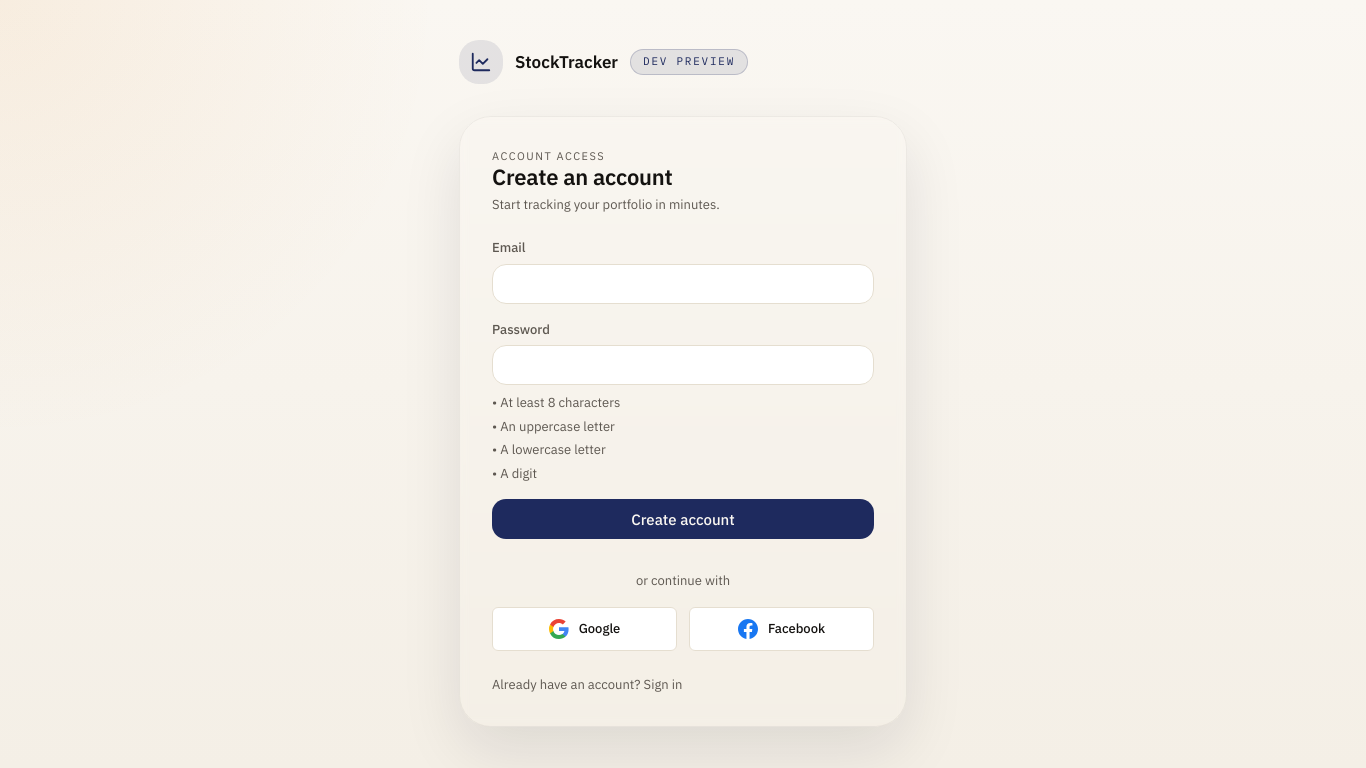
SignupRoute › submits sign-up and shows the immediate-access state
Type "newuser@example.com" into the field with test id "signup-email".
click(683, 284); type("newuser@example.com")  # box x1=492 y1=264 x2=874 y2=304
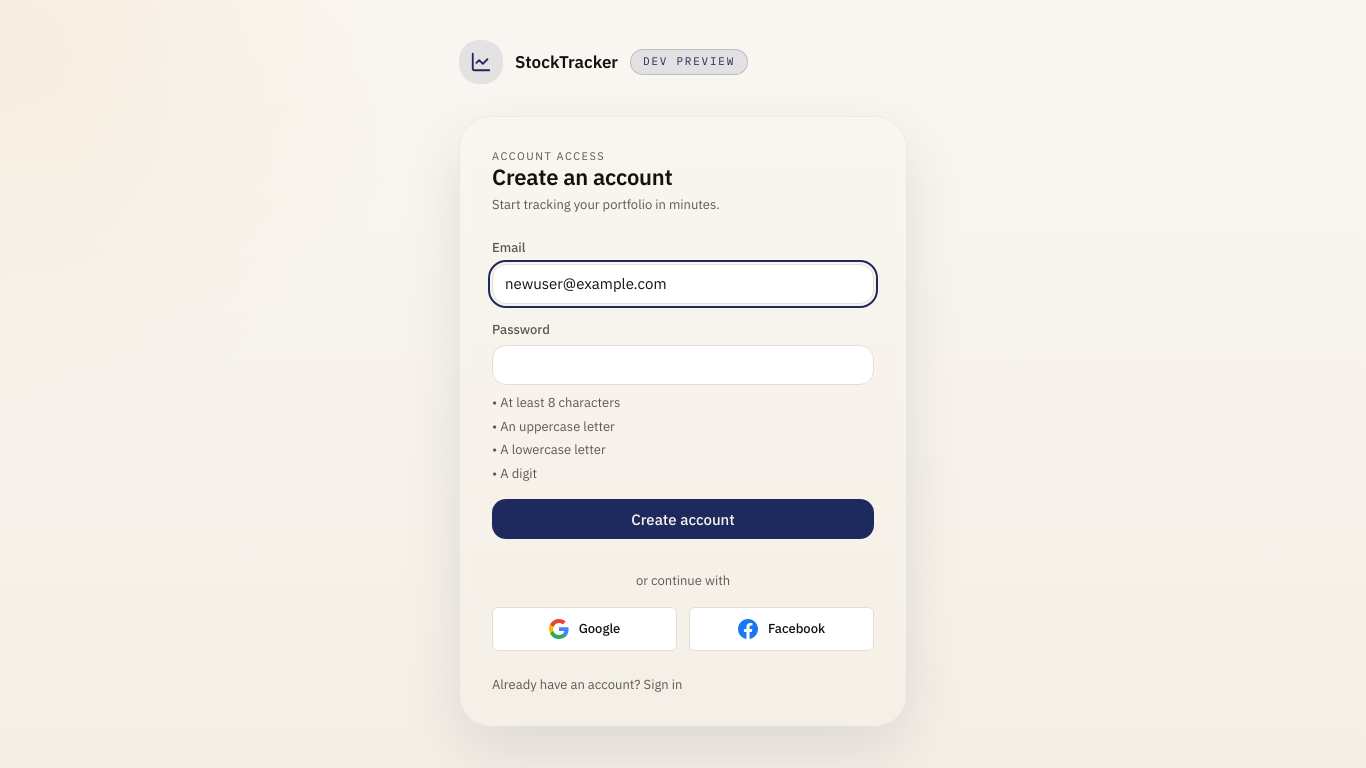
Type "Passw0rd!" into the password field with test id "signup-password".
click(683, 365); type("Passw0rd!")  # box x1=492 y1=345 x2=874 y2=385
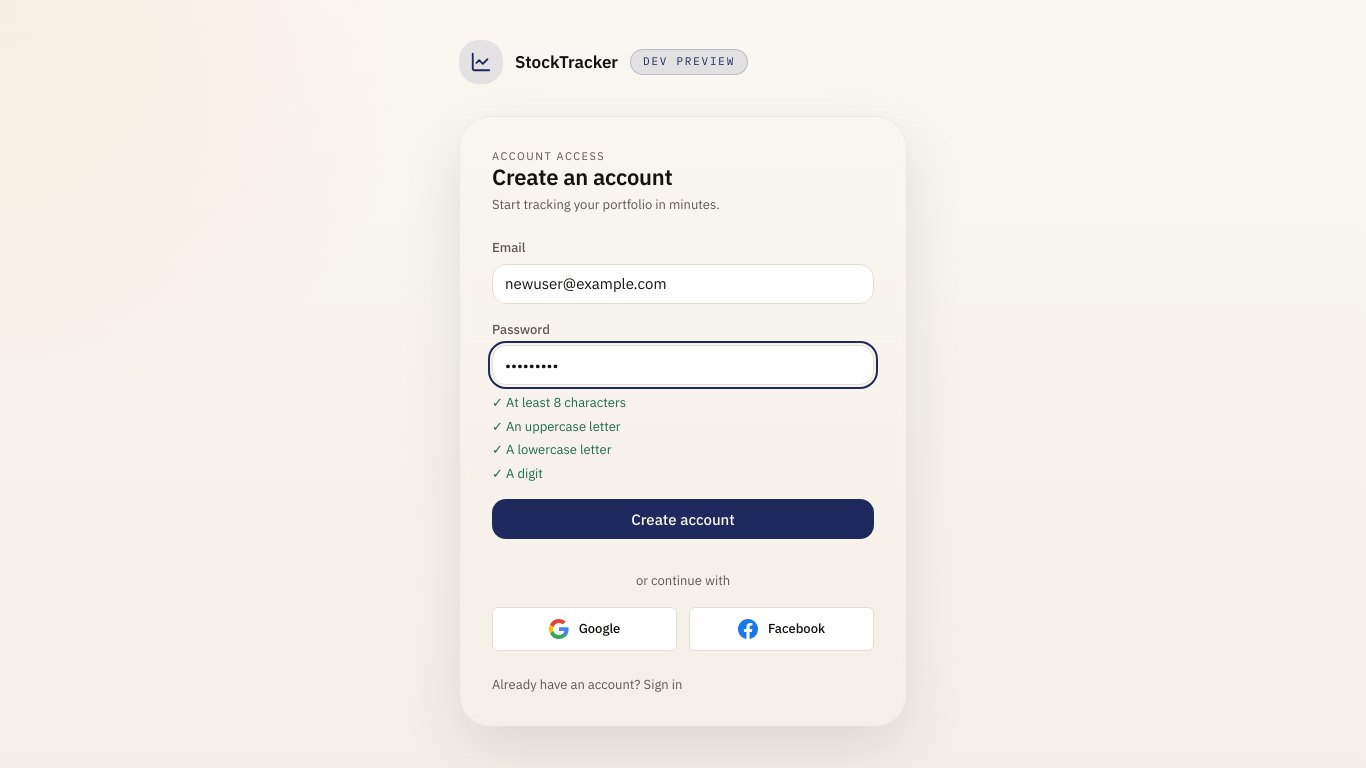
Click the button with test id "signup-submit".
click(683, 519)  # box x1=492 y1=499 x2=874 y2=539
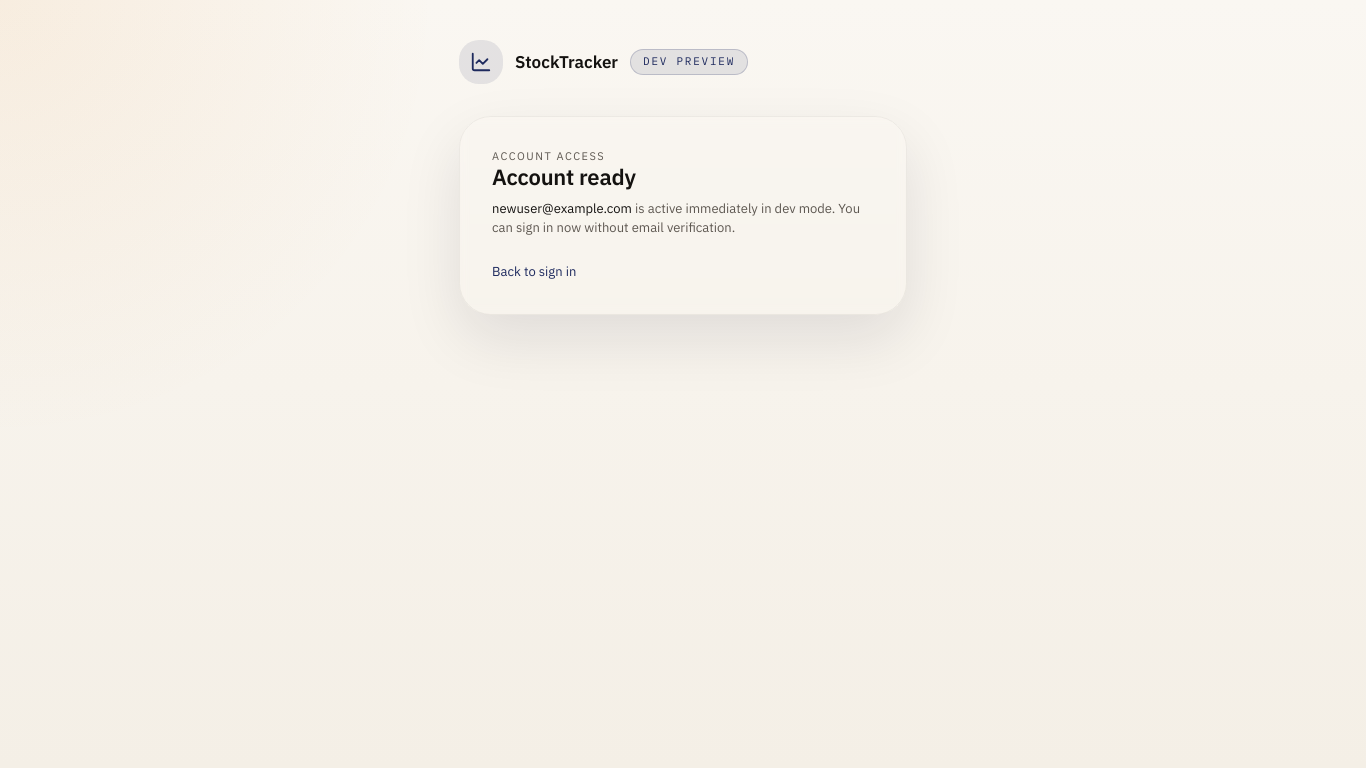
expect the element with test id "signup-success" is shown: met, box x1=492 y1=149 x2=874 y2=282
expect the text "newuser@example.com" is shown: met, box x1=492 y1=200 x2=632 y2=217
expect the text "without email verification" is shown: met, box x1=492 y1=200 x2=860 y2=236
